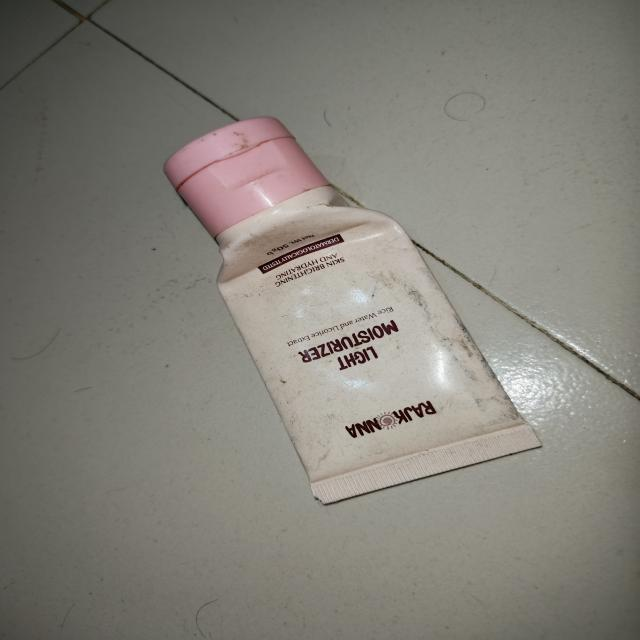Squeeze Tube: (162, 103, 557, 512)
